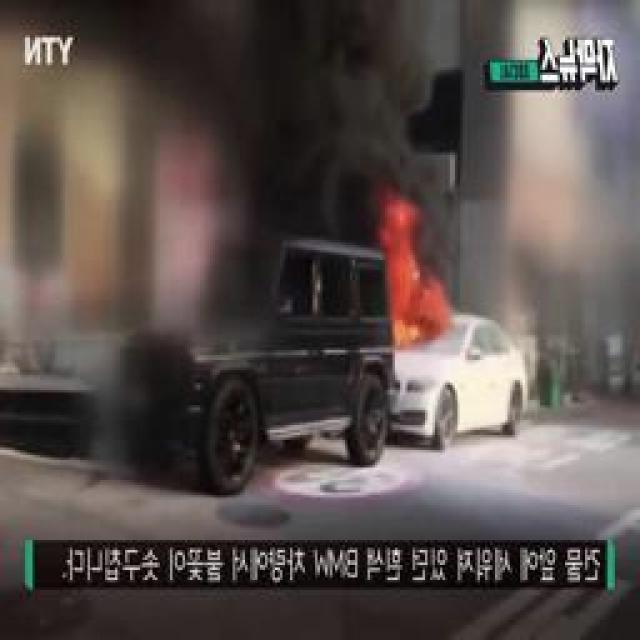Fire: (390, 288, 438, 355)
